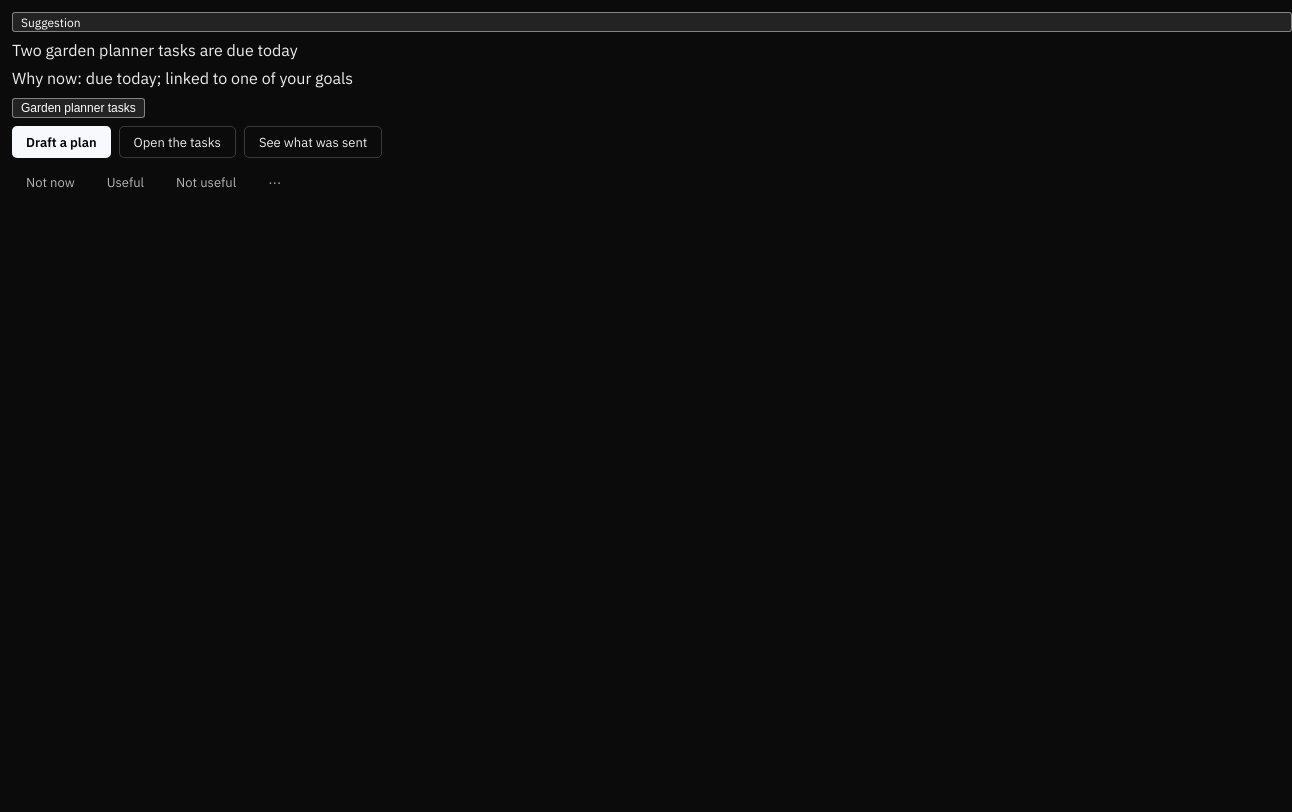
Test: the ⋯ menu › a click outside the card closes the menu
The width and height of the screenshot is (1292, 812).
Click the button named "More".
click(275, 182)  # box [254, 166, 295, 198]
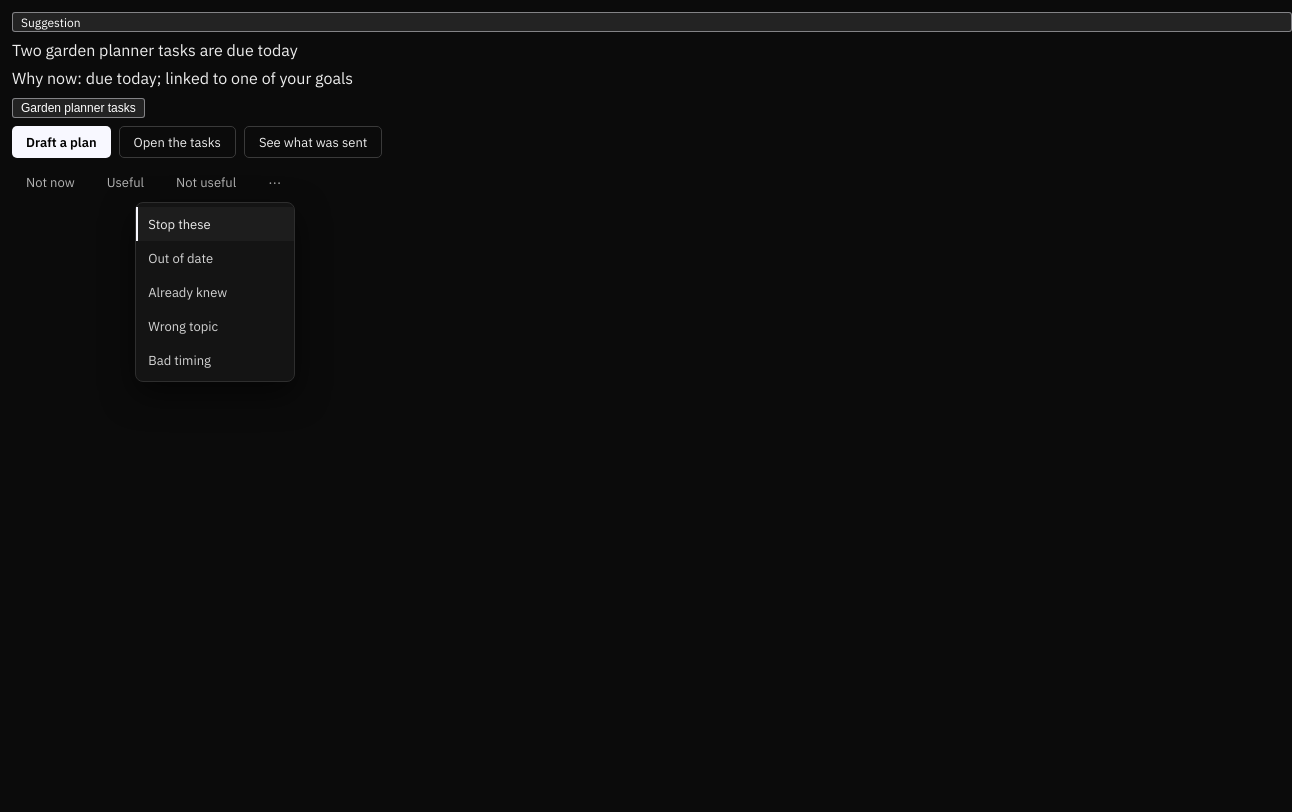
Press the mouse on the element that starts with "Suggestion" at (652, 412), box [12, 12, 1291, 811]
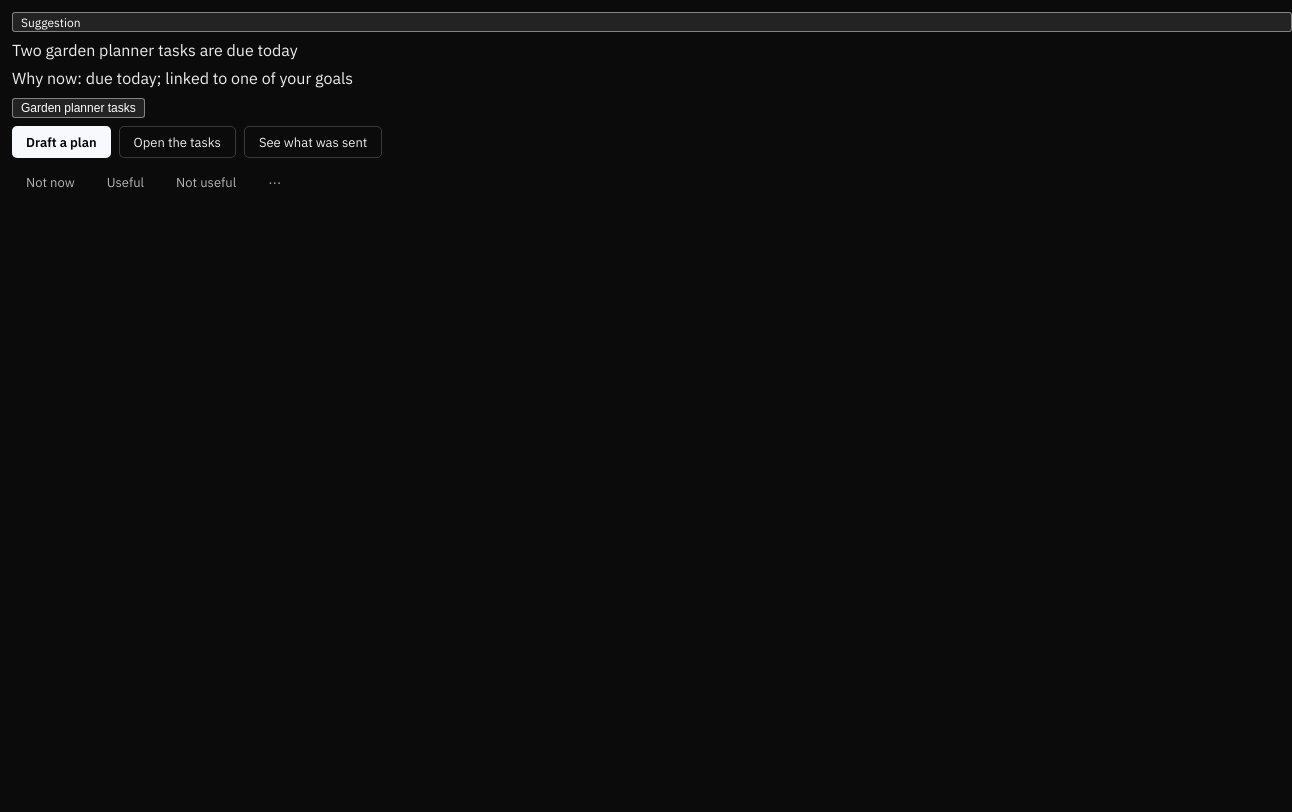
Now the menu is gone
